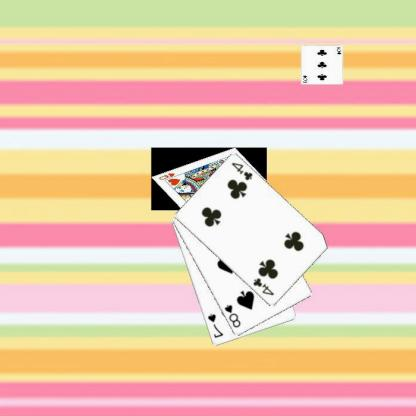4C: (252, 275, 277, 297), (231, 160, 256, 182)
7S: (207, 312, 226, 340)
8S: (223, 302, 244, 329)
